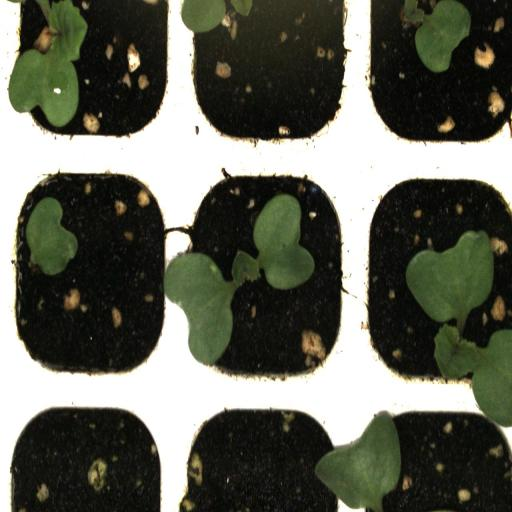seedling: (174, 155, 357, 392), (358, 155, 512, 399), (5, 4, 175, 150)
weak: (5, 154, 175, 390)
